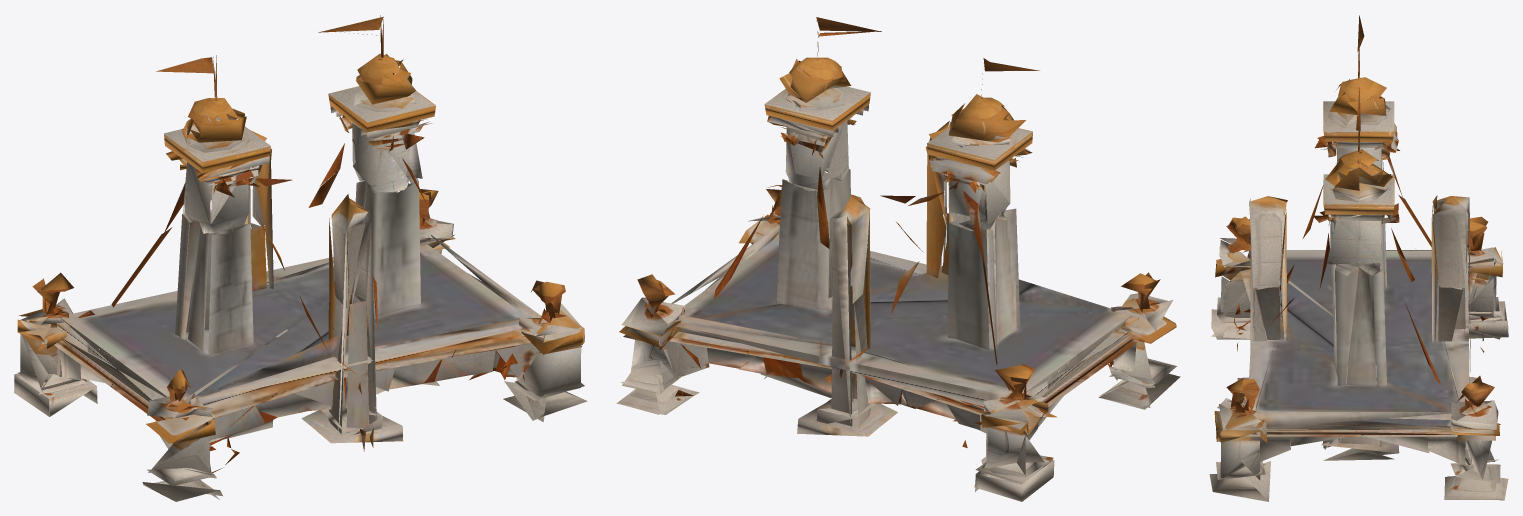
Rendered from lift-bridge.lod1.glb.
3 views of the same model, side by side, from view 1: azimuth 30°, elevation 25°; view 2: azimuth 150°, elevation 25°; view 3: azimuth 270°, elevation 25° (orthographic). The views are drawn at different scales.
Parts seen in each view (by area): view 1: lift-bridge_lod1; view 2: lift-bridge_lod1; view 3: lift-bridge_lod1.
Part boxes in pixels (x1,y1,x2,y2): lift-bridge_lod1: (14,15,587,501); lift-bridge_lod1: (616,17,1180,501); lift-bridge_lod1: (1209,15,1508,501).
Bounding box in the file's own units: 6.14 × 5.09 × 4.13.
Materials: 1 (1 with a texture image).
